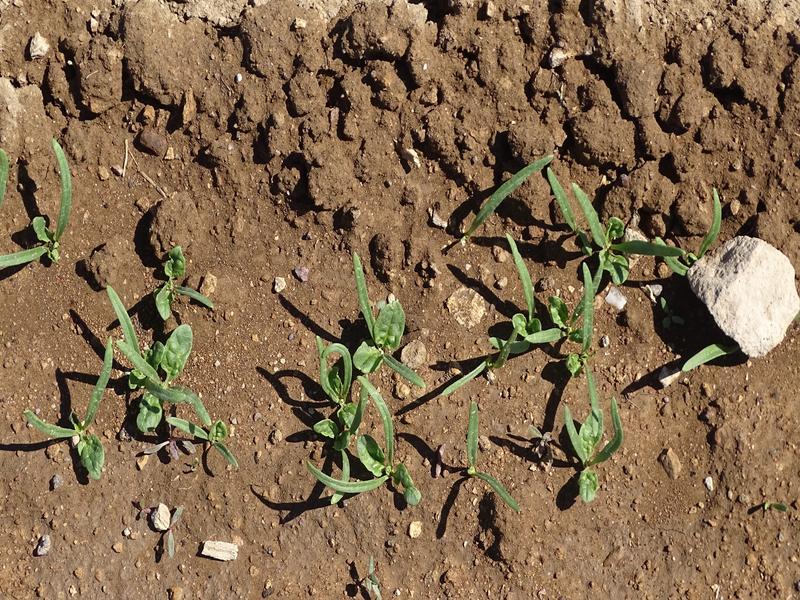Espinaca: (443, 174, 721, 515), (70, 254, 248, 480), (284, 256, 425, 501), (1, 134, 76, 274)
